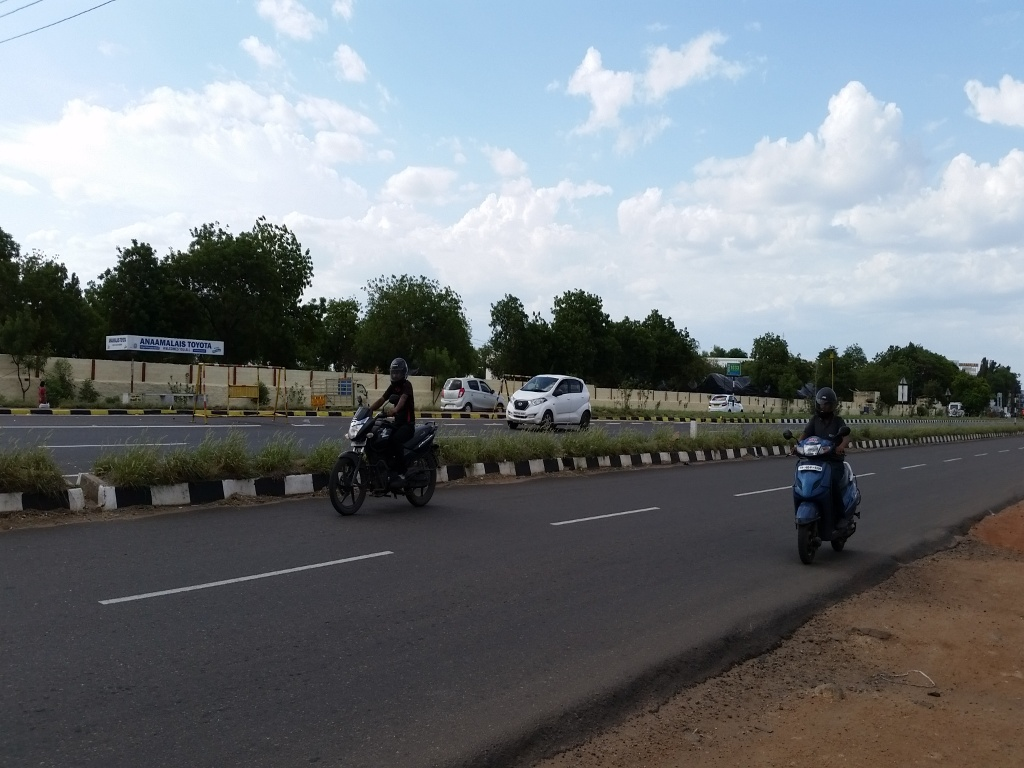biker: (315, 323, 458, 523), (768, 368, 885, 574)
helmet: (380, 341, 419, 395), (806, 378, 845, 432)
